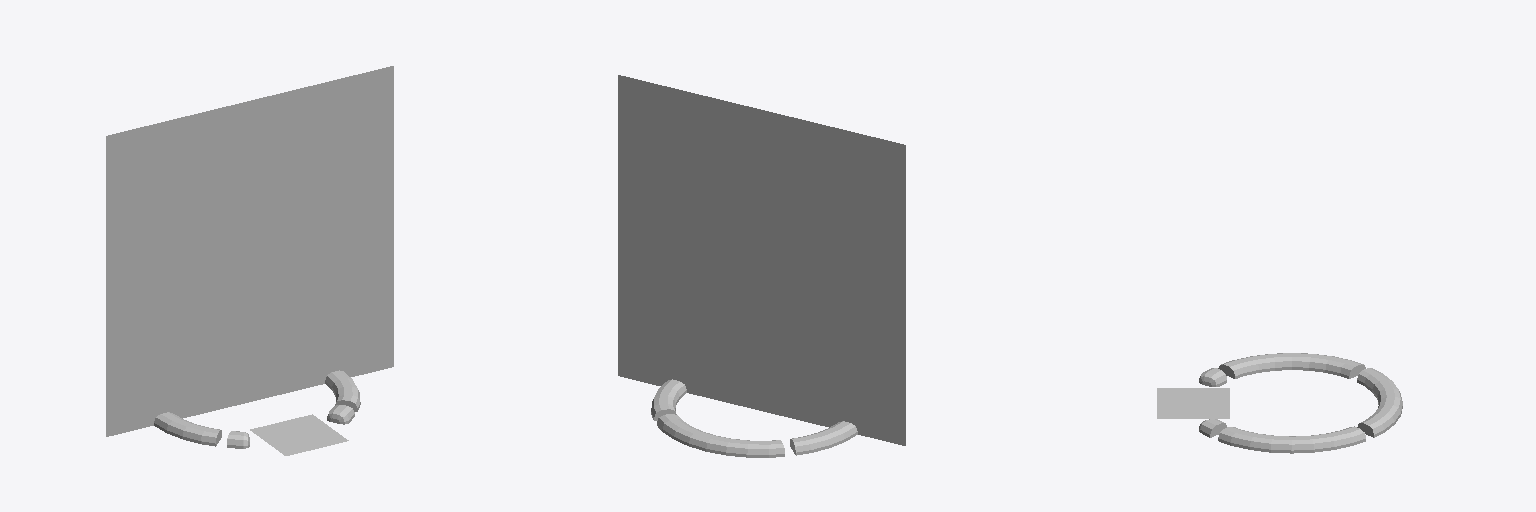
The picture shows the model from 3 angles: view 1: azimuth 30°, elevation 25°; view 2: azimuth 150°, elevation 25°; view 3: azimuth 270°, elevation 25°; orthographic projection.
Visible parts, largest first — view 1: 0FRONT_Plane.002, 1BACK_Plane.004, 0BASE.001_Cylinder.008, 0BASE_ICON_Cylinder.005; view 2: 1BACK_Plane.004, 0FRONT_Plane.002, 0BASE.001_Cylinder.008, 1BACK_PLATE_Plane.008, 1BACK_TEXT_CUBack; view 3: 0BASE.001_Cylinder.008, 0BASE_ICON_Cylinder.005.
Part boxes in pixels (bbox=[...]): 0FRONT_Plane.002: bbox=[106, 66, 393, 405]; 1BACK_Plane.004: bbox=[106, 128, 261, 436]; 0BASE.001_Cylinder.008: bbox=[154, 370, 360, 448]; 0BASE_ICON_Cylinder.005: bbox=[250, 414, 348, 455]; 1BACK_Plane.004: bbox=[618, 75, 905, 412]; 0FRONT_Plane.002: bbox=[744, 130, 905, 445]; 0BASE.001_Cylinder.008: bbox=[651, 379, 857, 457]; 1BACK_PLATE_Plane.008: bbox=[709, 340, 812, 412]; 1BACK_TEXT_CUBack: bbox=[723, 352, 799, 400]; 0BASE.001_Cylinder.008: bbox=[1199, 353, 1402, 453]; 0BASE_ICON_Cylinder.005: bbox=[1157, 388, 1229, 418].
Bounding box in the file's own units: 3 × 3 × 2.22.